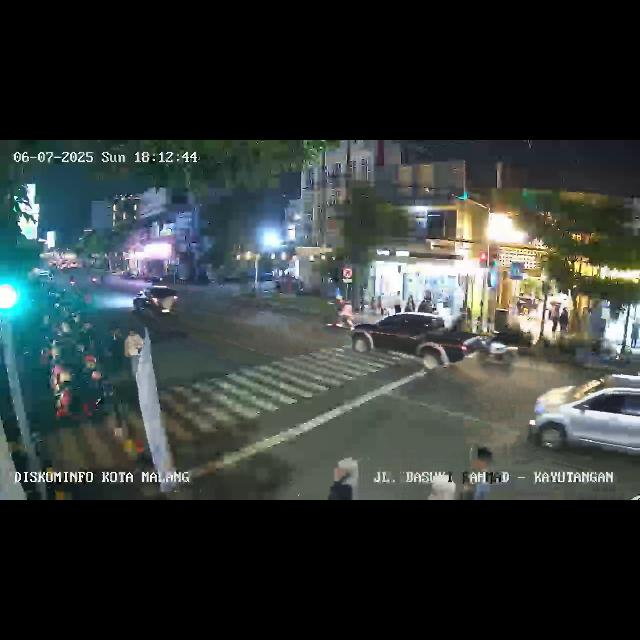car: (528, 376, 640, 474), (356, 312, 478, 373), (131, 286, 181, 320)
motorcycle: (485, 324, 521, 368), (331, 298, 353, 332)
person: (461, 444, 505, 500), (324, 456, 362, 498), (122, 326, 144, 376), (558, 304, 570, 336), (549, 302, 559, 336), (630, 317, 640, 348), (392, 290, 402, 314), (406, 292, 414, 312)
